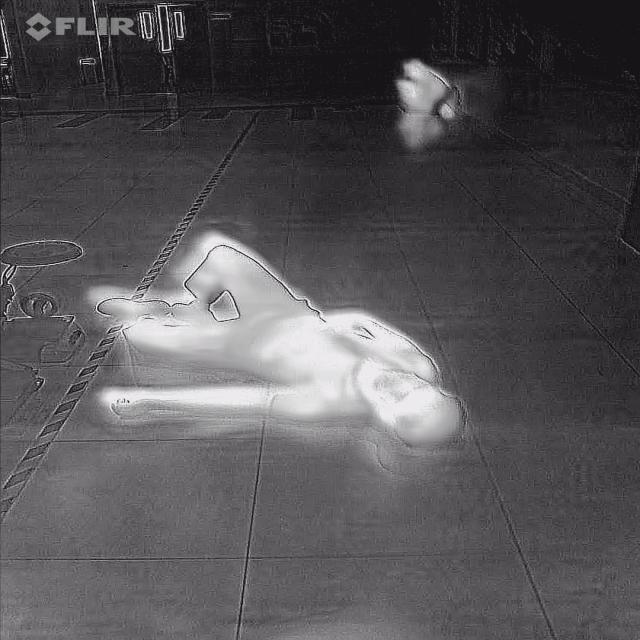Victim: (92, 223, 468, 449), (384, 54, 465, 120)
